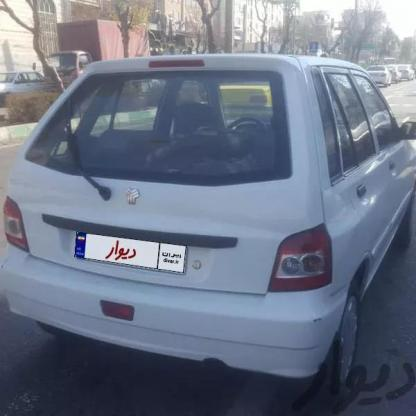Car: (0, 48, 416, 416), (0, 68, 53, 112), (369, 71, 394, 80), (390, 68, 408, 79)
Truck: (54, 20, 147, 84)
